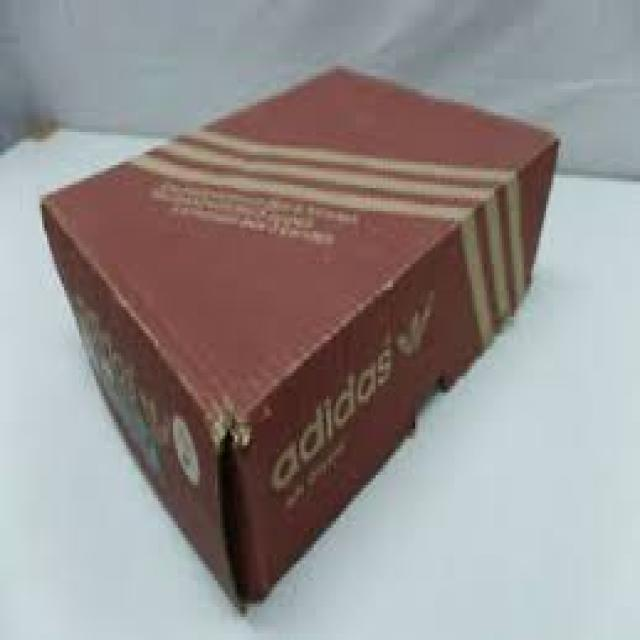cardboard: (40, 63, 556, 607)
